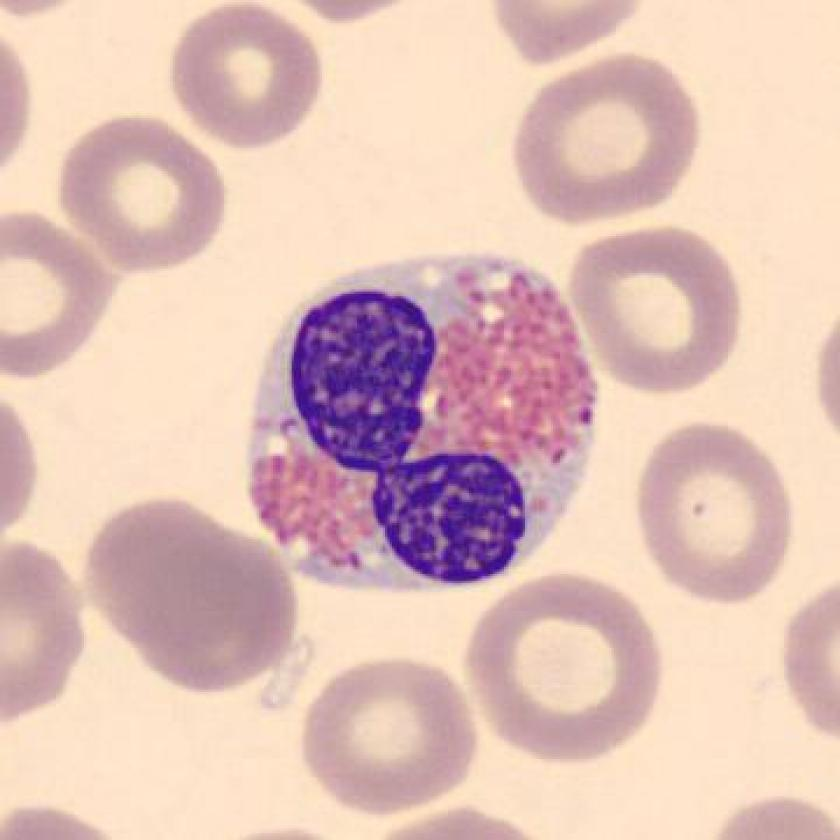eosinophil: (239, 239, 608, 612)
